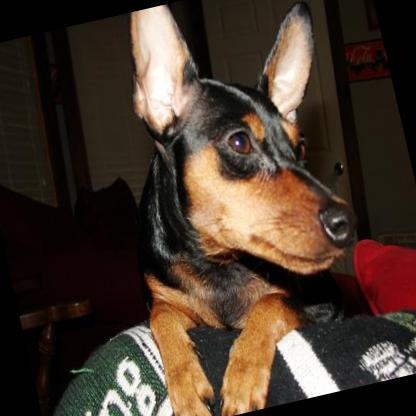miniature_pinscher: (82, 0, 396, 416)
